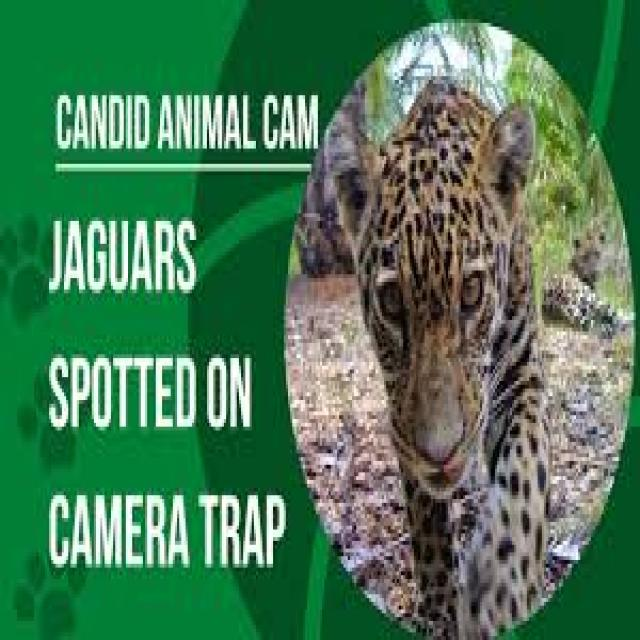Jaguar: (328, 84, 552, 640)
